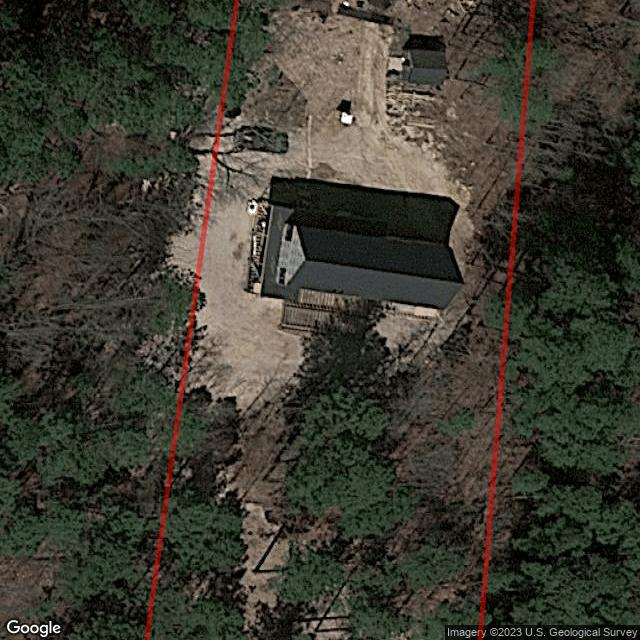House: (276, 220, 466, 310)
Other: (248, 202, 442, 339), (403, 47, 447, 84)
